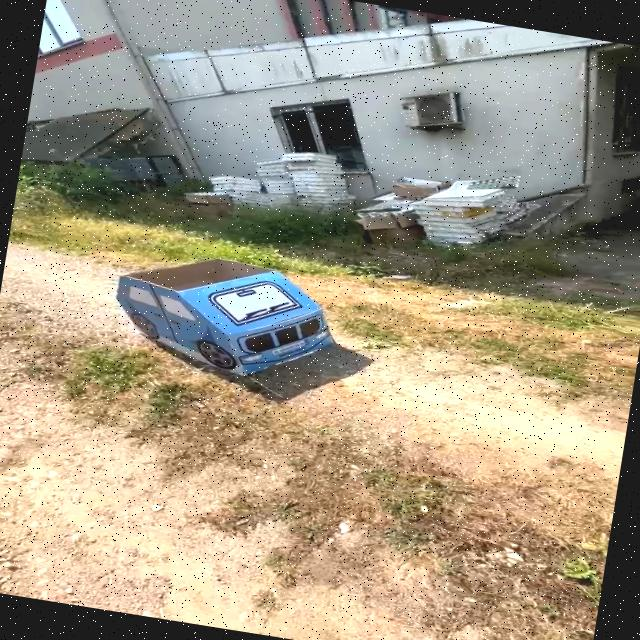blue_car: (76, 224, 383, 406)
